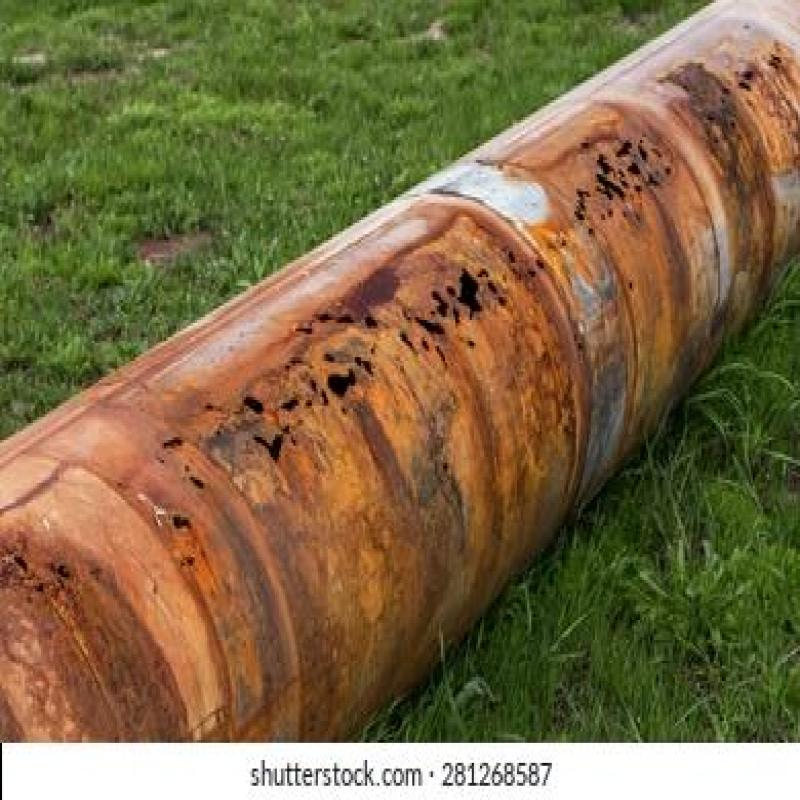Fracture: (228, 385, 314, 465), (575, 149, 686, 209), (416, 268, 489, 336), (311, 345, 378, 401)
